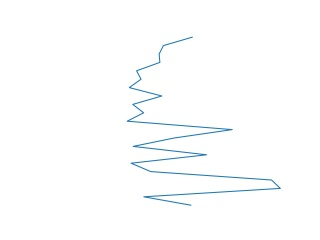crevasseRiverBedLagDeposit: (122, 35, 285, 210)
